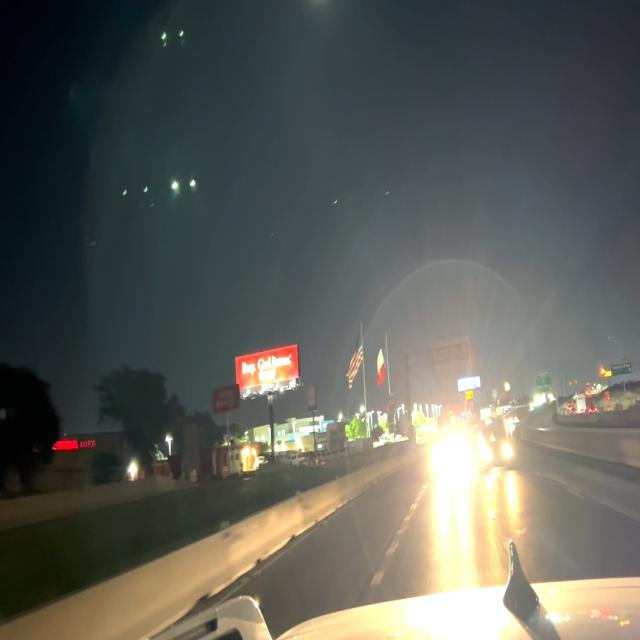back-of-sign: (427, 331, 474, 375)
